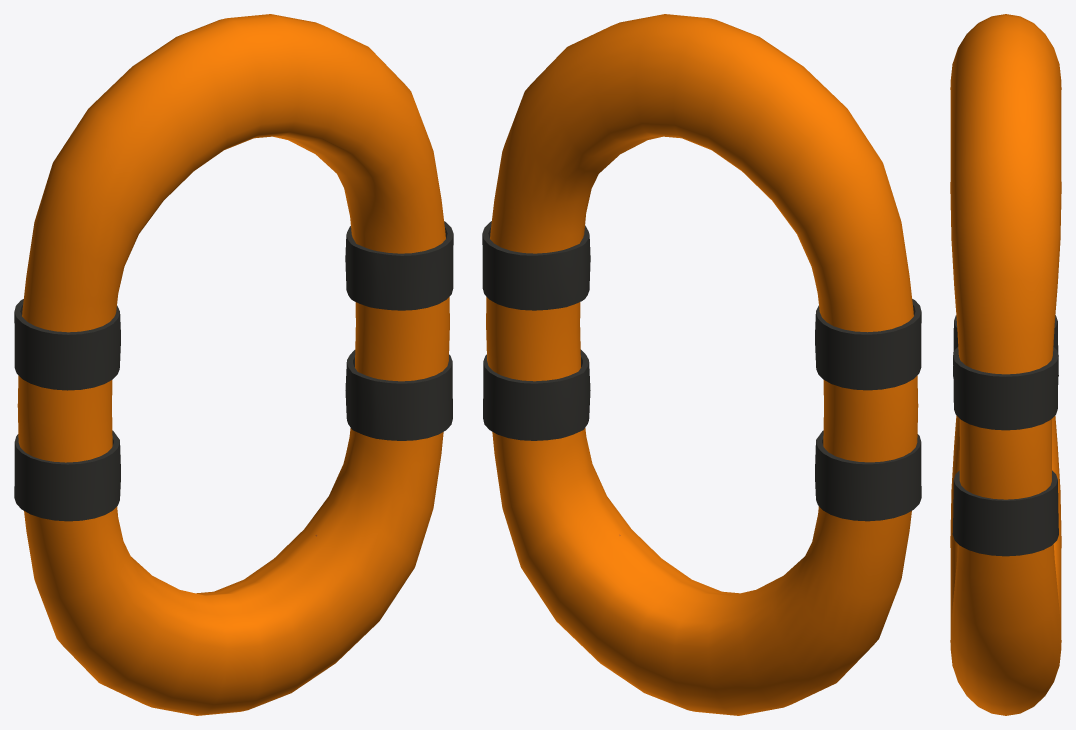
Rendered from PerahuLuar.fbx.
3 views of the same model, side by side, from view 1: azimuth 30°, elevation 25°; view 2: azimuth 150°, elevation 25°; view 3: azimuth 270°, elevation 25° (orthographic). The views are drawn at different scales.
Parts seen in each view (by area): view 1: PerahuLuar; view 2: PerahuLuar; view 3: PerahuLuar.
Boxes of the visible parts, x1,y1,x2,y2 form: PerahuLuar: [14, 14, 453, 715]; PerahuLuar: [482, 14, 921, 715]; PerahuLuar: [950, 14, 1061, 715].
Bounding box in the file's own units: 124 × 192 × 28.98.
Materials: 1 (1 with a texture image).
